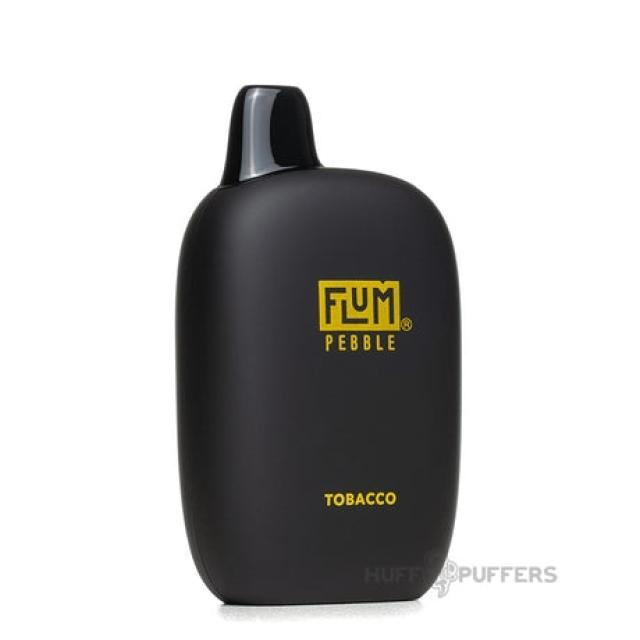Vapes: (172, 82, 464, 607)
